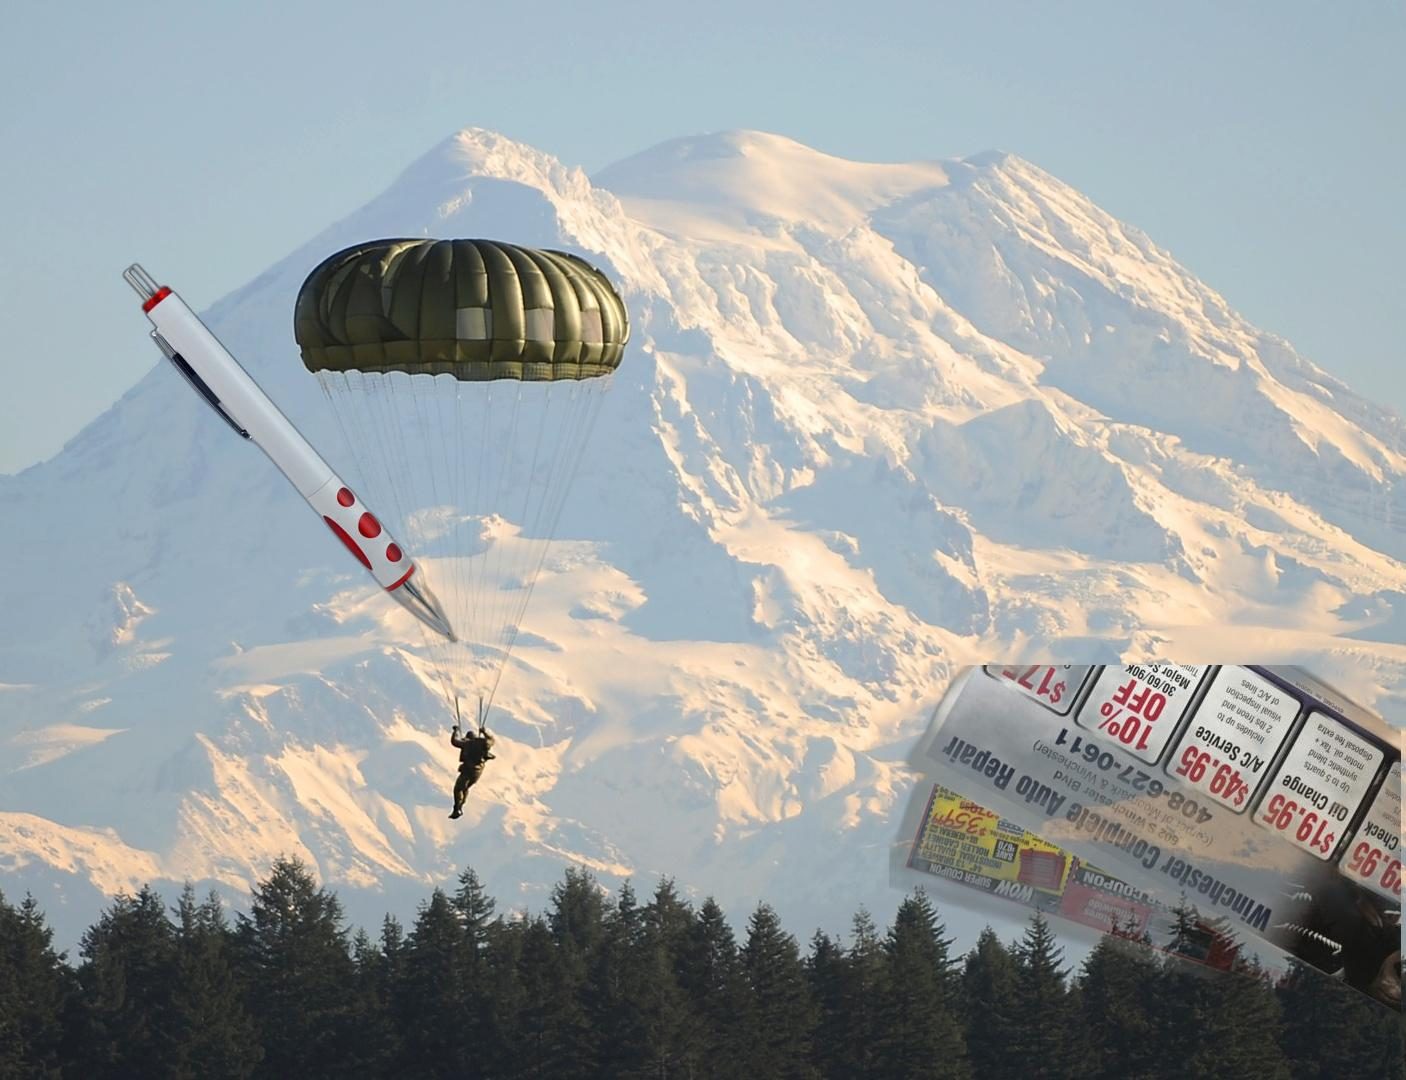paper: (889, 665, 1401, 1049)
penholder: (18, 216, 464, 646)
